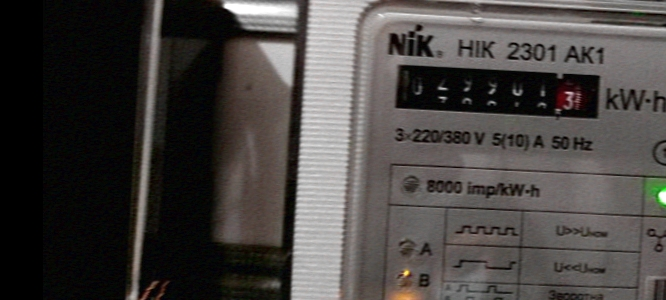0: (511, 72, 527, 98), (410, 73, 427, 95)
1: (536, 74, 550, 98)
2: (435, 72, 452, 91)
3: (563, 87, 577, 109)
9: (486, 72, 501, 95), (461, 71, 474, 94)
screen: (383, 52, 613, 128)
